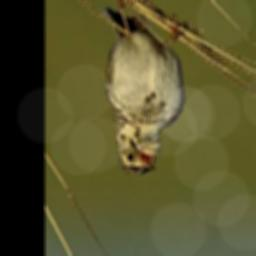Sparrow: (105, 0, 189, 177)
